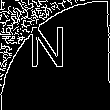N_S: (35, 30, 75, 80)
